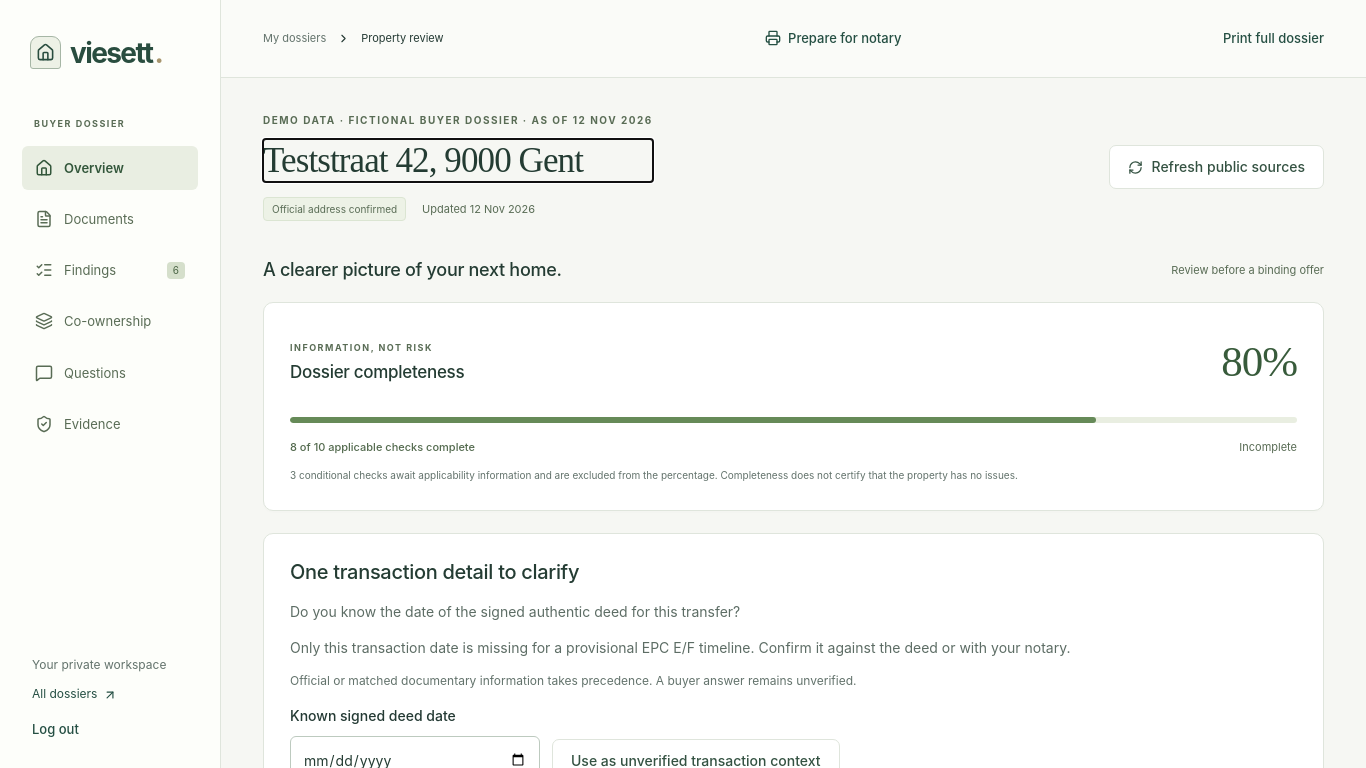
reports a CSRF/logout error without pretending revocation succeeded
Expected: the heading "Dossier completeness" is shown, left=290, top=362, right=464, bottom=383
Click the button "Log out" at (110, 729), box left=32, top=715, right=188, bottom=743
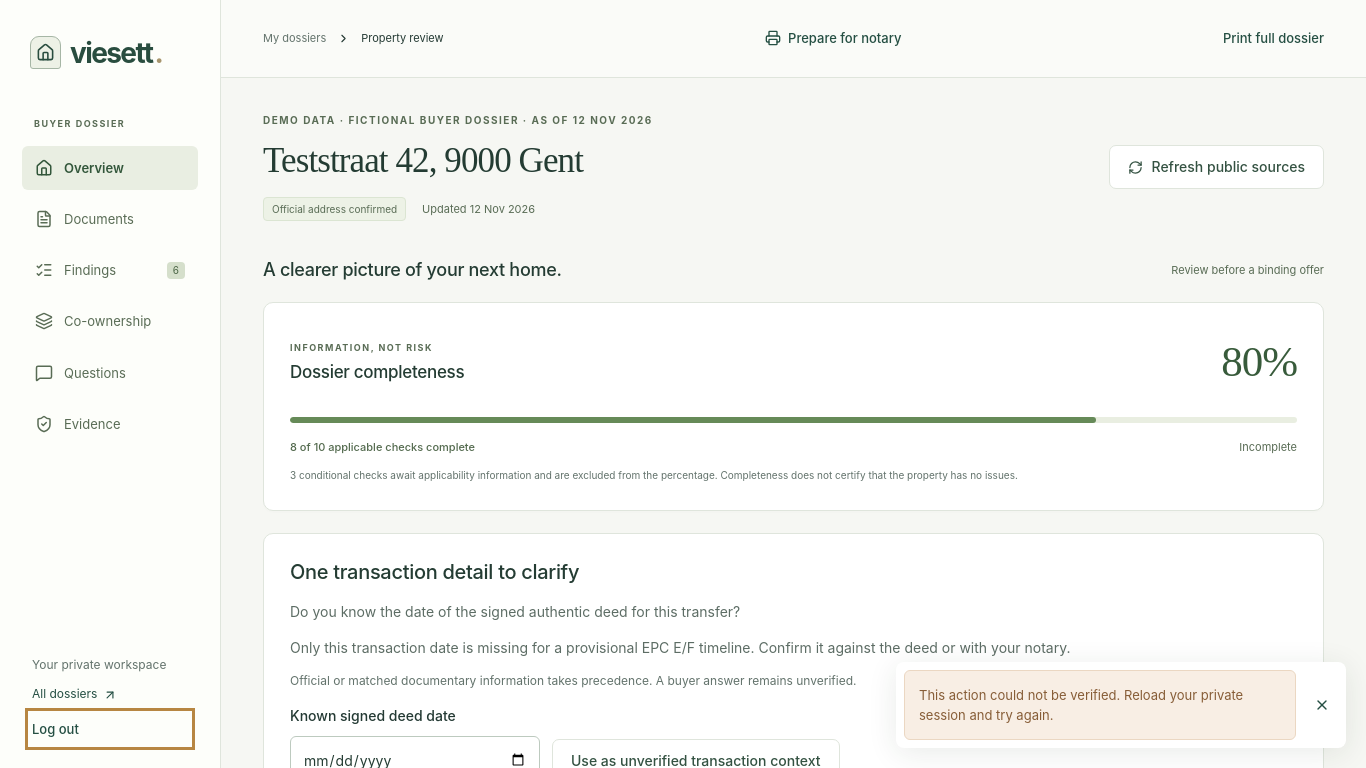
Expected: the heading "Dossier completeness" is shown, left=290, top=362, right=464, bottom=383
Now the message shows "Reload your private session", box left=919, top=687, right=1243, bottom=723
